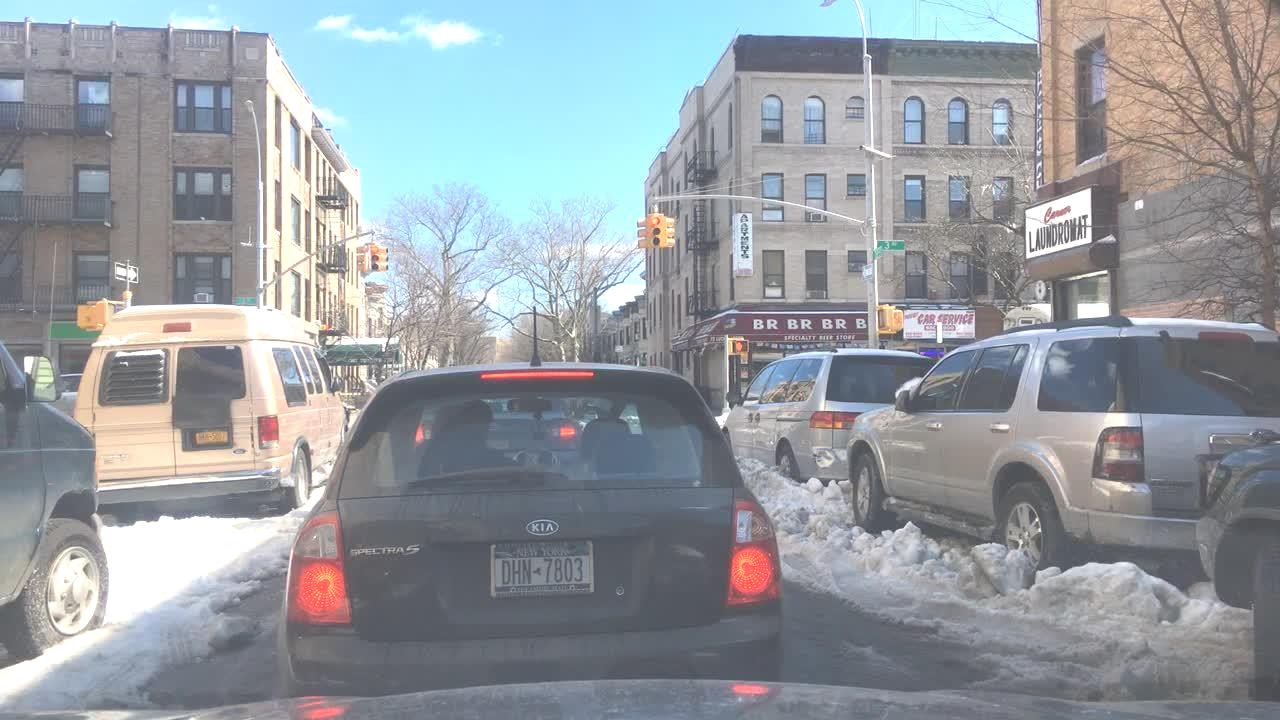kia: (512, 512, 570, 546)
